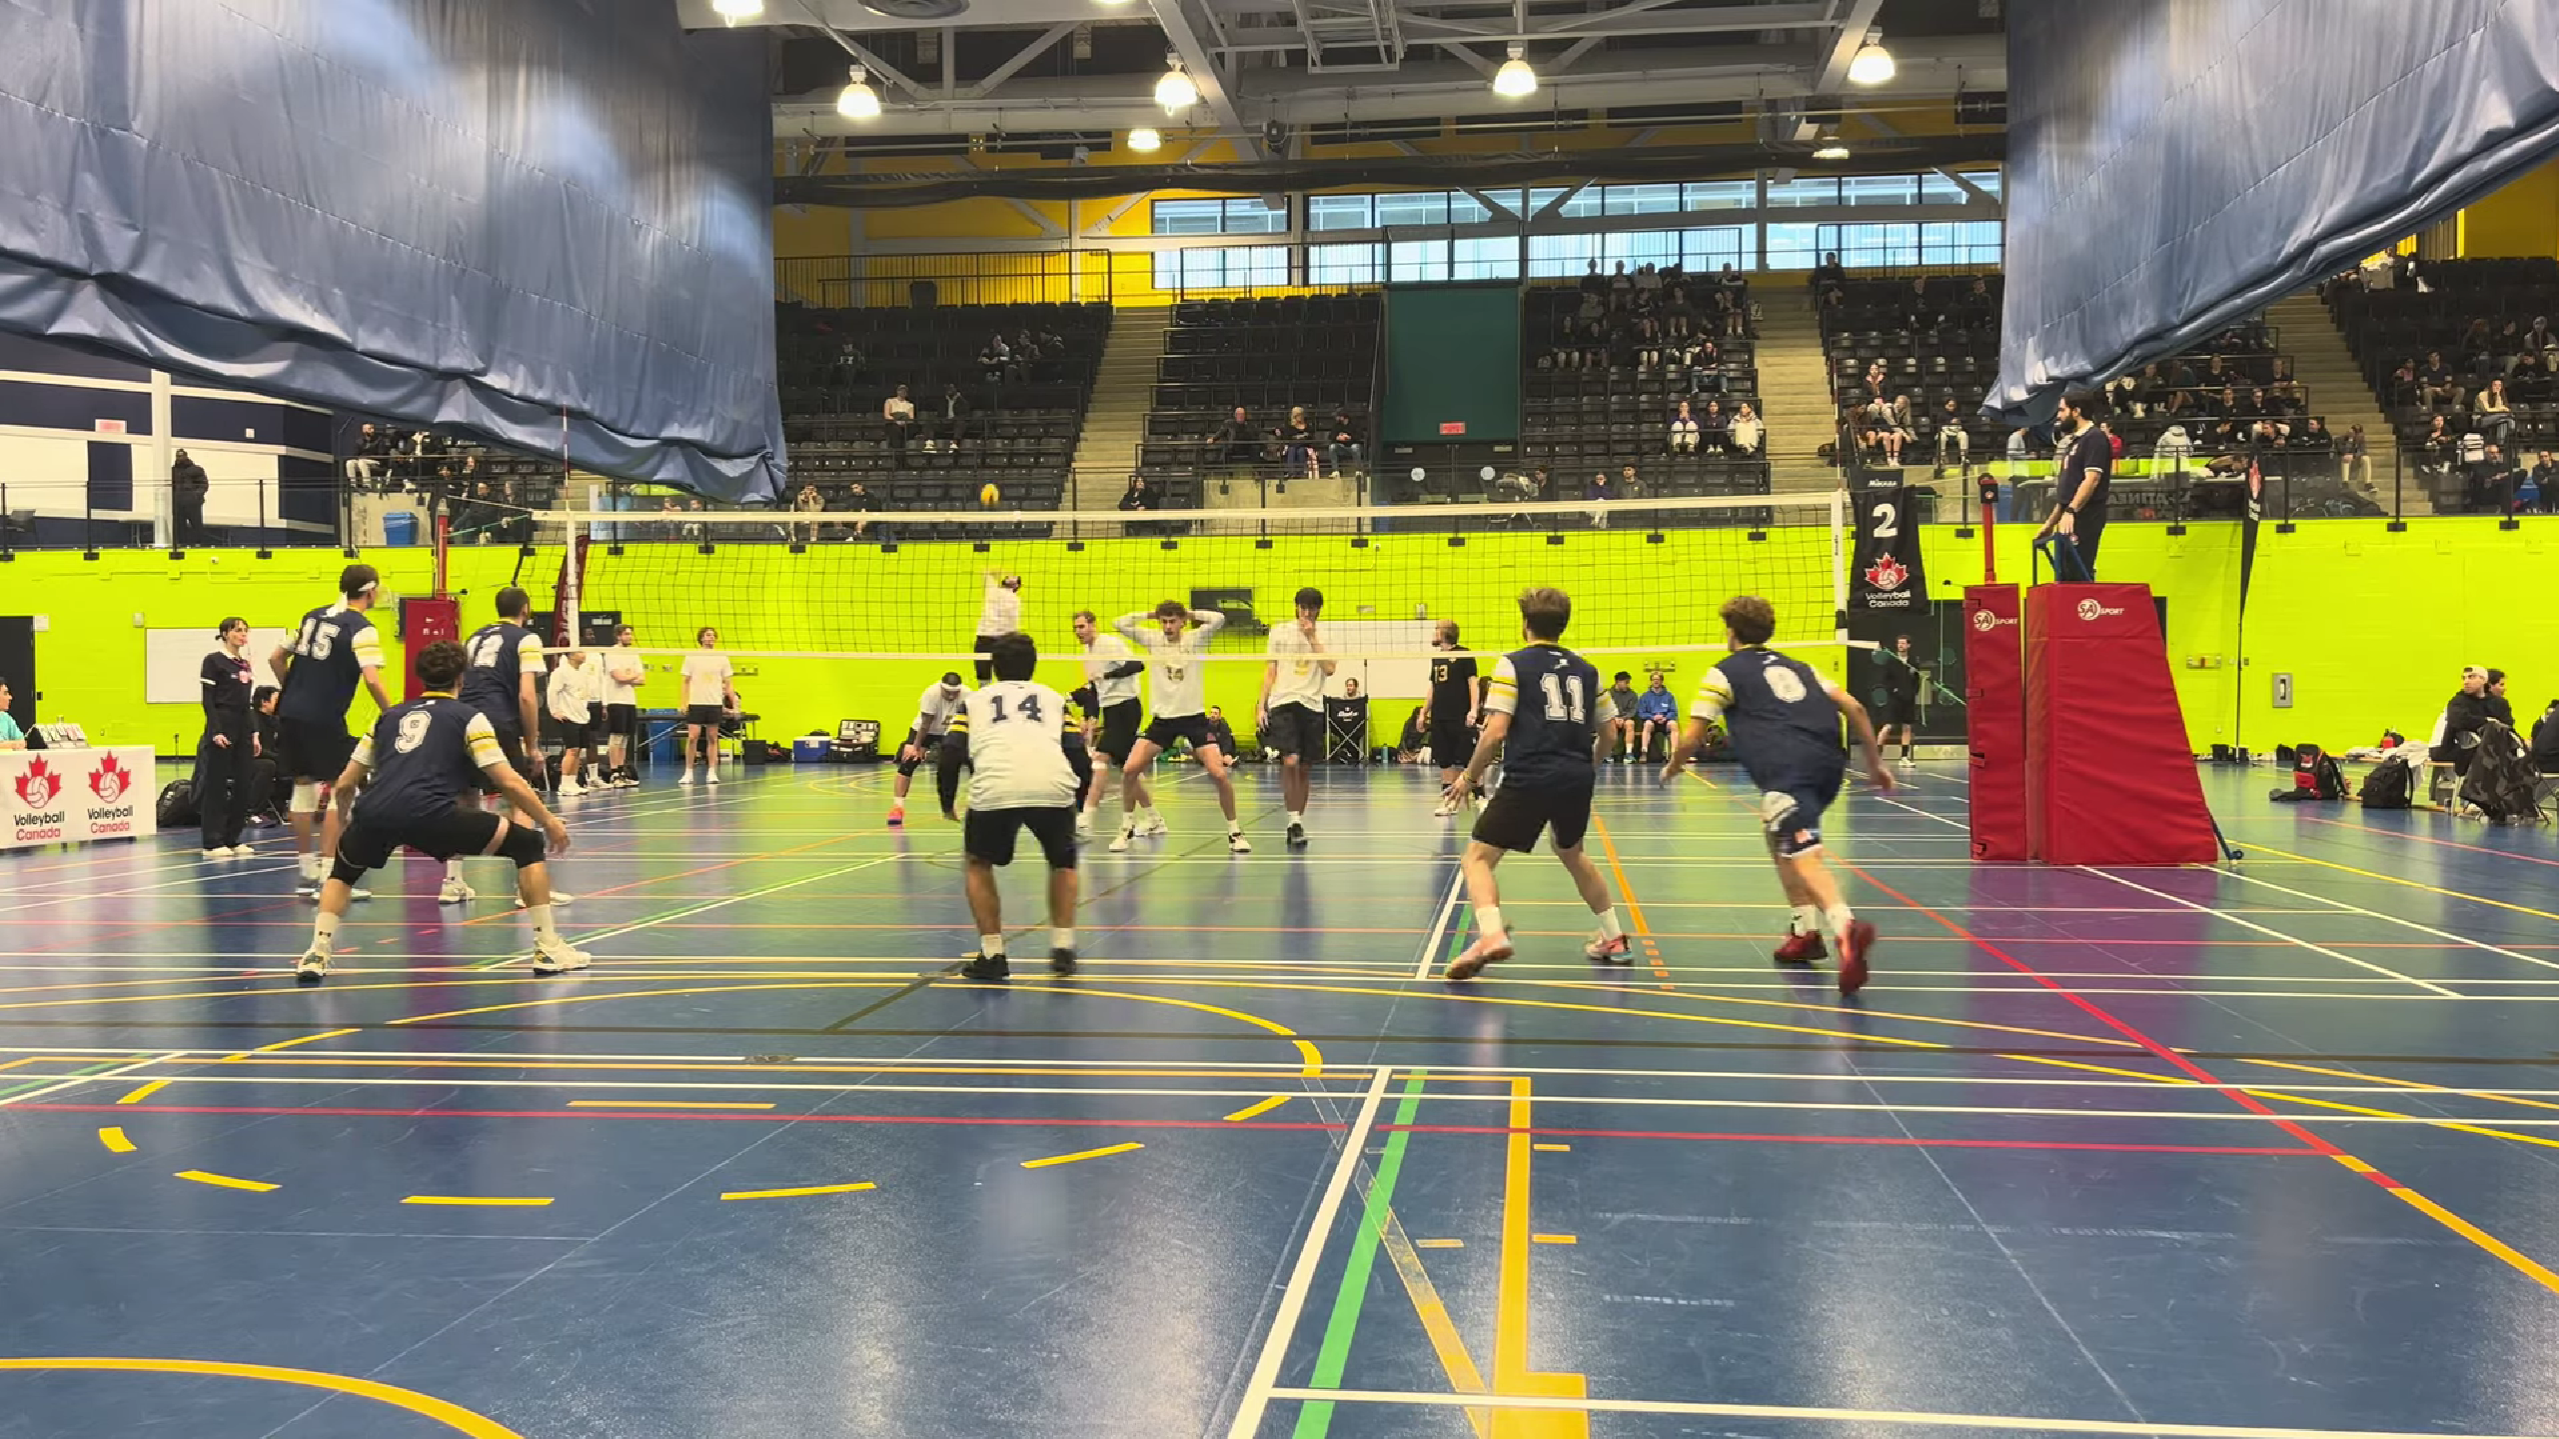Ball: (977, 481, 1004, 508)
